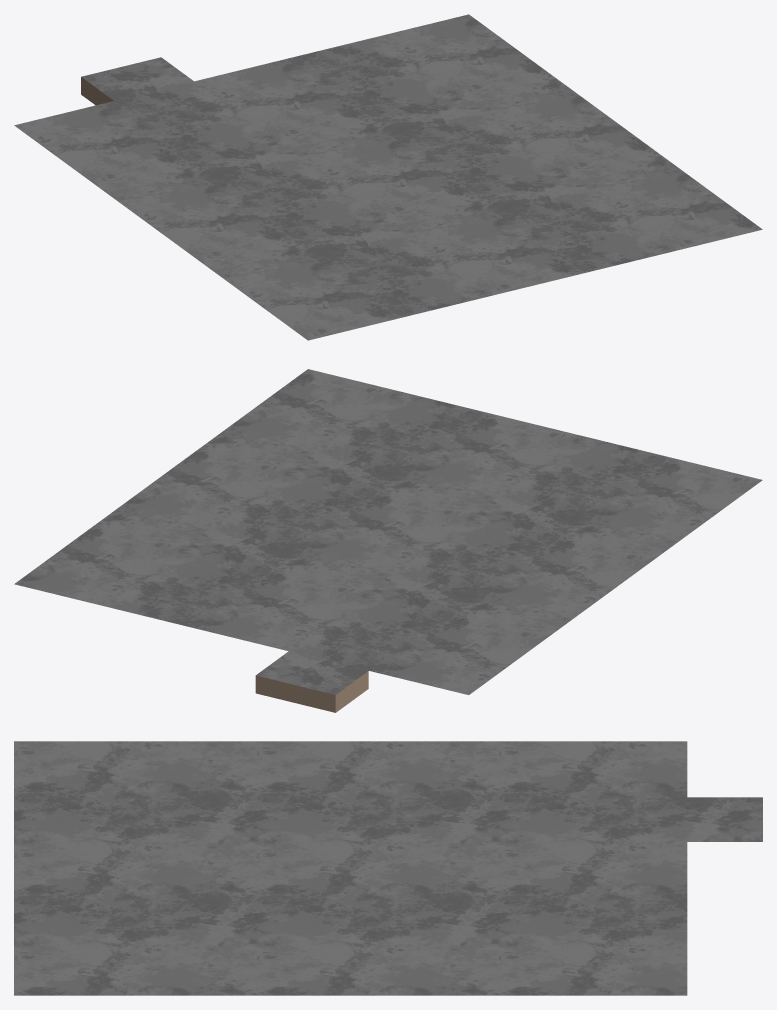
File: Grimace_Decay_Floor.fbx
3 views of the same model, one above another, from view 1: azimuth 30°, elevation 25°; view 2: azimuth 150°, elevation 25°; view 3: azimuth 270°, elevation 25° (orthographic). The views are drawn at different scales.
Visible parts, largest first — view 1: Grimace Decay Floor; view 2: Grimace Decay Floor; view 3: Grimace Decay Floor.
Part boxes in pixels (<box>): Grimace Decay Floor: <box>14,14,762,340</box>; Grimace Decay Floor: <box>14,369,762,712</box>; Grimace Decay Floor: <box>14,741,762,995</box>.
Size of the model in its own units: 3975 by 150 by 4950.
Materials: 3 (3 with a texture image).
